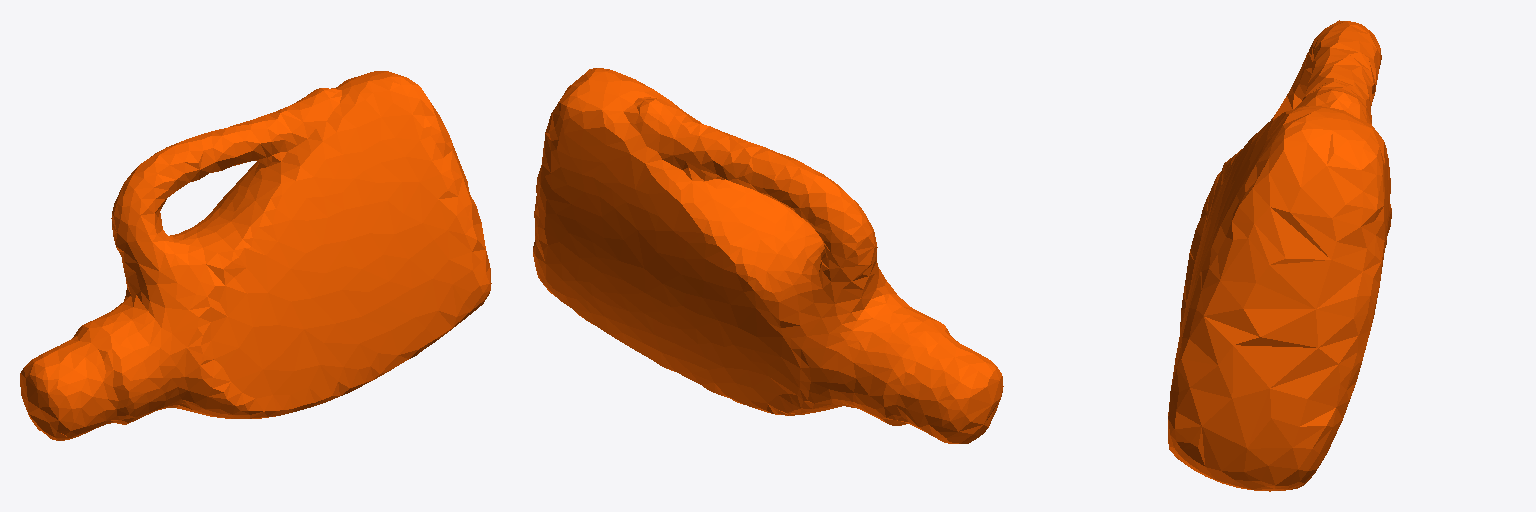
robot.urdf — cleanser_back_functional:
<?xml version="1.0" ?>
<robot name="cleanser_back_functional">
   <material name="obj_color">
      <color rgba="1.0 0.423529411765 0.0392156862745 1.0"/>
   </material>
   <link name="top">
      <inertial>
         <origin rpy="0.005100980645737457 0.01469387173889472 0.01798703646905626" xyz="0.02276501852023659 -0.005075988956403031 -0.004346009471596265"/>
         <mass value="3.228712325873819"/>
         <inertia ixx="0.006026719700820225" ixy="0.0003714079229064102" ixz="-0.002872057009434498" iyy="0.0177338713085985" iyz="-0.0008005327492513343" izz="0.01402129784426971"/>
      </inertial>
      <visual>
         <origin rpy="0 0 0" xyz="0 0 0"/>
         <geometry>
            <mesh filename="top_watertight_tiny.stl" scale="1 1 1"/>
         </geometry>
         <material name="obj_color"/>
      </visual>
      <collision>
         <origin rpy="0 0 0" xyz="0 0 0"/>
         <geometry>
            <mesh filename="top_watertight_tiny.obj" scale="1 1 1"/>
         </geometry>
      </collision>
   </link>
   <link name="bottom">
      <inertial>
         <origin rpy="1.633333333199431e-08 1.633333333199431e-08 1.633333333362855e-08" xyz="0.3464080000000008 0.3464080000000008 0.3464080000000008"/>
         <mass value="0.0009800000000000017"/>
         <inertia ixx="1.633333333253906e-08" ixy="5.447480642029219e-19" ixz="5.447480642029219e-19" iyy="1.633333333253906e-08" iyz="5.447480642029219e-19" izz="1.633333333253906e-08"/>
      </inertial>
      <visual>
         <origin rpy="0 0 0" xyz="0 0 0"/>
         <geometry>
            <mesh filename="bottom_watertight_tiny.stl" scale="1 1 1"/>
         </geometry>
         <material name="obj_color"/>
      </visual>
   </link>
   <joint name="rotation" type="revolute">
      <origin xyz="0 0 0"/>
      <axis xyz="0 0 -1"/>
      <parent link="bottom"/>
      <child link="top"/>
      <dynamics damping="1.0" friction="1.0"/>
      <limit effort="0.1" velocity="0.1" lower="0" upper="0.001"/>
   </joint>
</robot>

--- Render facts (derived) ---
The picture shows the robot from 3 angles, left to right: view 1: azimuth 30°, elevation 25°; view 2: azimuth 150°, elevation 25°; view 3: azimuth 270°, elevation 25°; orthographic projection.
Model cleanser_back_functional with 2 links and 1 joints (1 revolute), rooted at bottom, posed every joint at zero.
Links seen in each view (by area): view 1: top; view 2: top; view 3: top.
Link boxes in pixels (left/top/right/bottom): top: left=20, top=71, right=491, bottom=440; top: left=533, top=68, right=1003, bottom=443; top: left=1168, top=20, right=1391, bottom=491.
Bounding box of the posed robot: 0.2726 × 0.0841 × 0.1724 m (x, y, z).
1 mesh visuals loaded from 2 distinct referenced files (1 binary STL); not drawn: 1 (reference not matched to a file when rendering).
